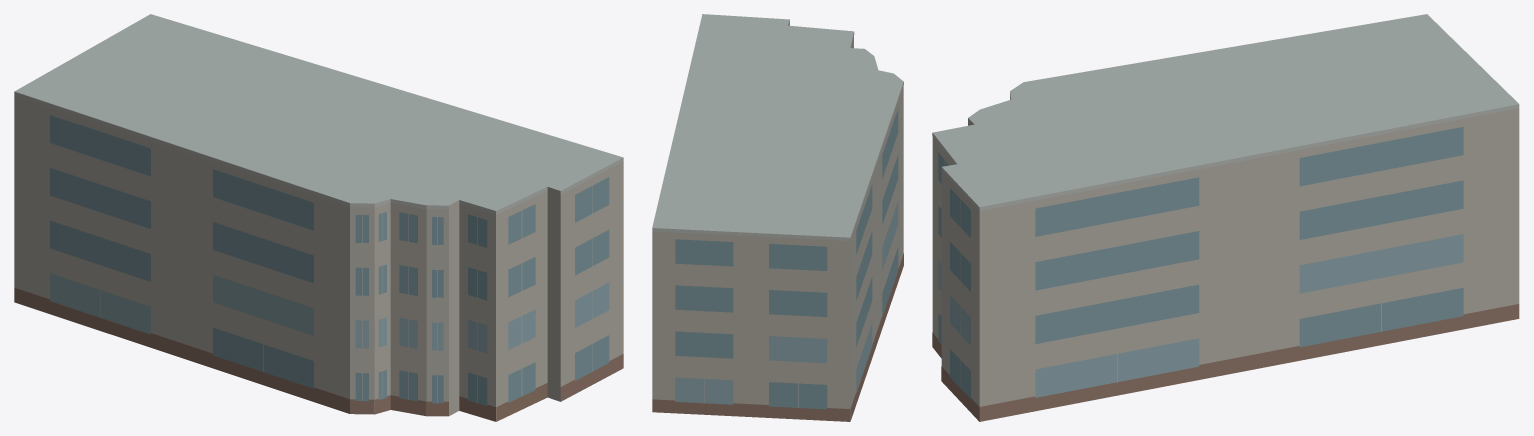
File: survey-upis-32899820.glb
The picture shows the model from 3 angles, left to right: view 1: azimuth 30°, elevation 25°; view 2: azimuth 150°, elevation 25°; view 3: azimuth 270°, elevation 25°; orthographic projection. The views are drawn at different scales.
Visible parts, largest first — view 1: survey-upis-32899820.tmp; view 2: survey-upis-32899820.tmp; view 3: survey-upis-32899820.tmp.
Boxes of the visible parts, bbox=[...] form: survey-upis-32899820.tmp: bbox=[14, 14, 623, 421]; survey-upis-32899820.tmp: bbox=[652, 14, 903, 421]; survey-upis-32899820.tmp: bbox=[932, 14, 1519, 421].
Bounding box in the file's own units: 26.09 × 13.5 × 33.47.
